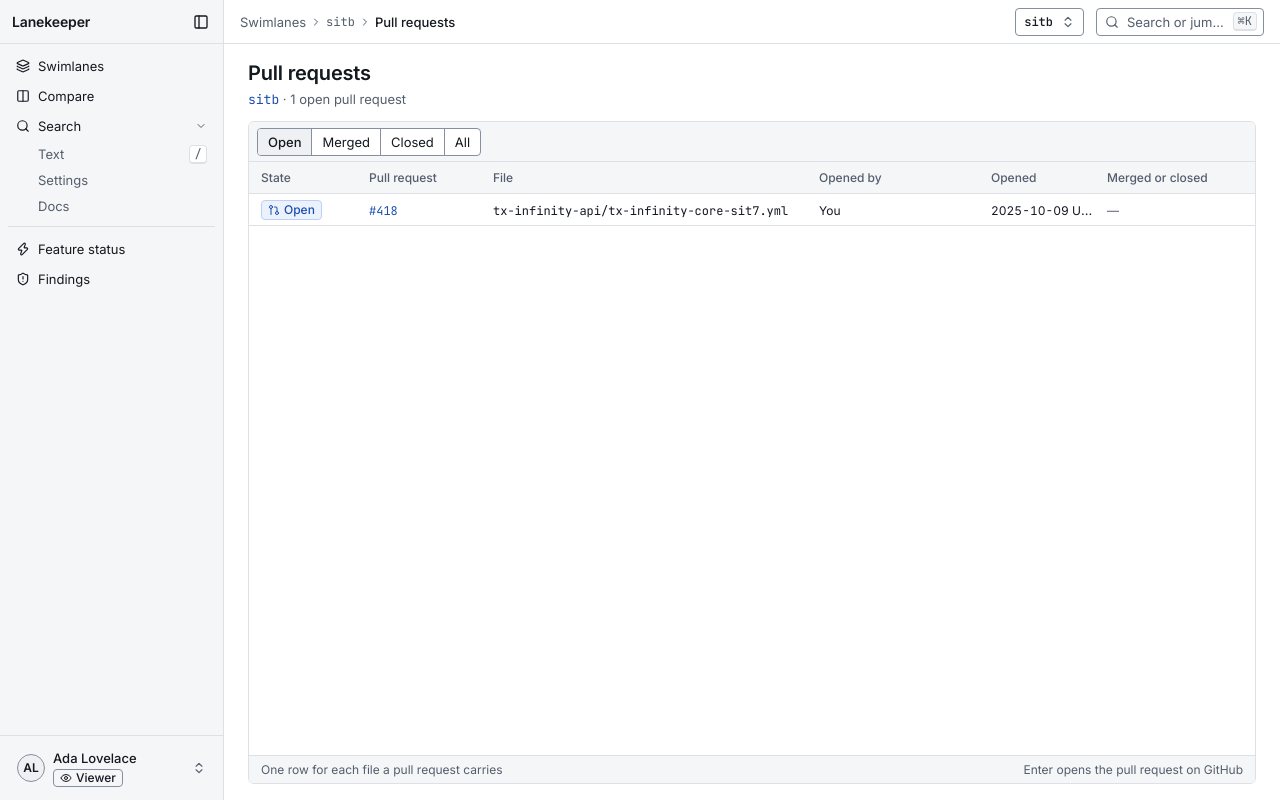
Test case: the route › changes the filter in the address, without adding a history entry
Check: the table named "Pull requests" is shown, box [249,162,1255,226]
Click the radio button labelled "Merged": (346, 142) [312,128,380,154]
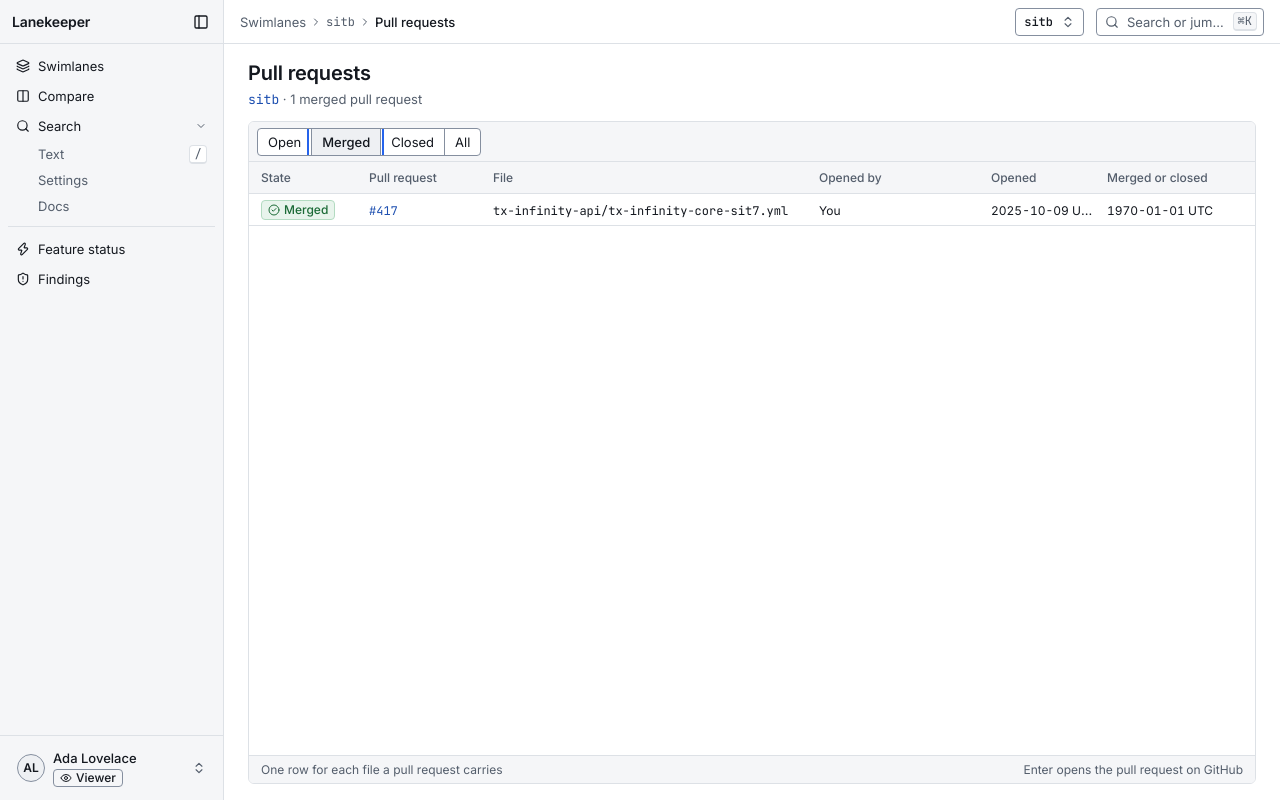
Check: the link "#417" is shown, box [369,202,398,218]
Click the radio button labelled "Open": (285, 142) [258,128,311,154]
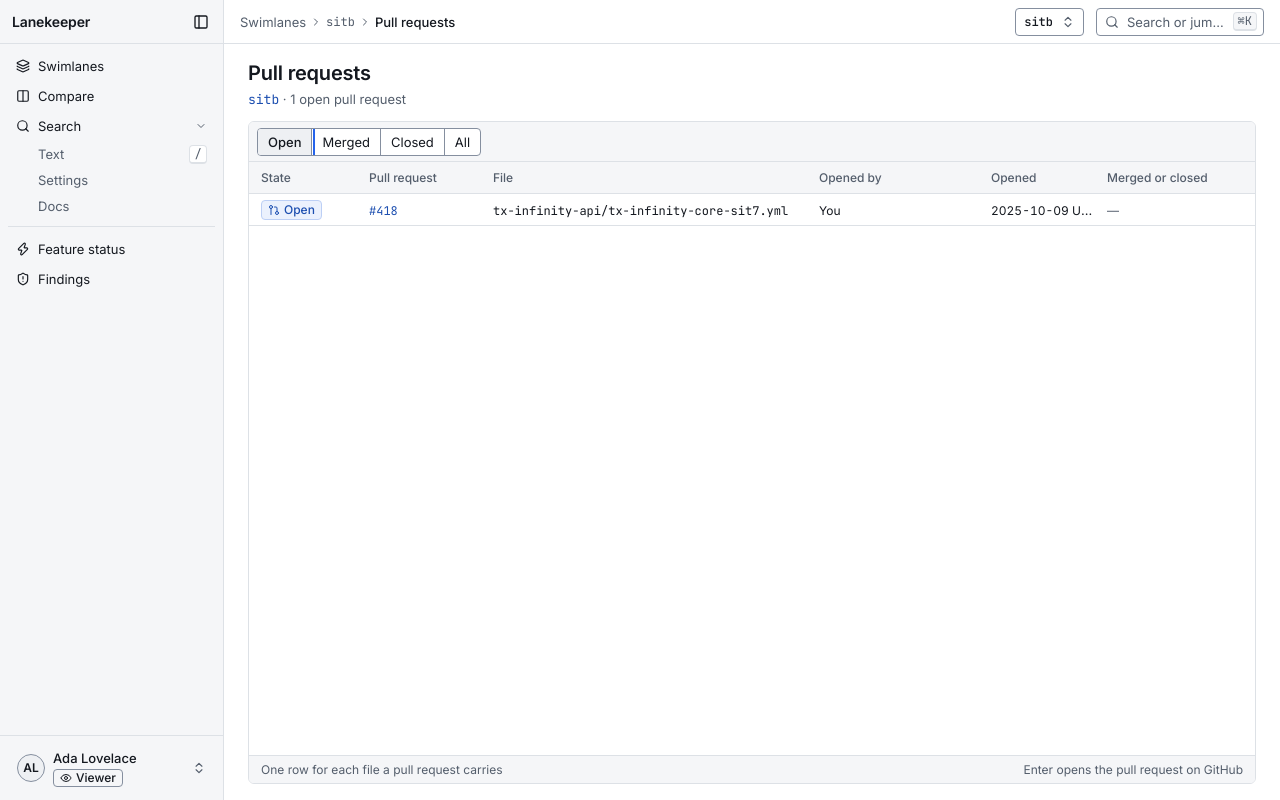
Check: the link "#418" is shown, box [369,202,398,218]
